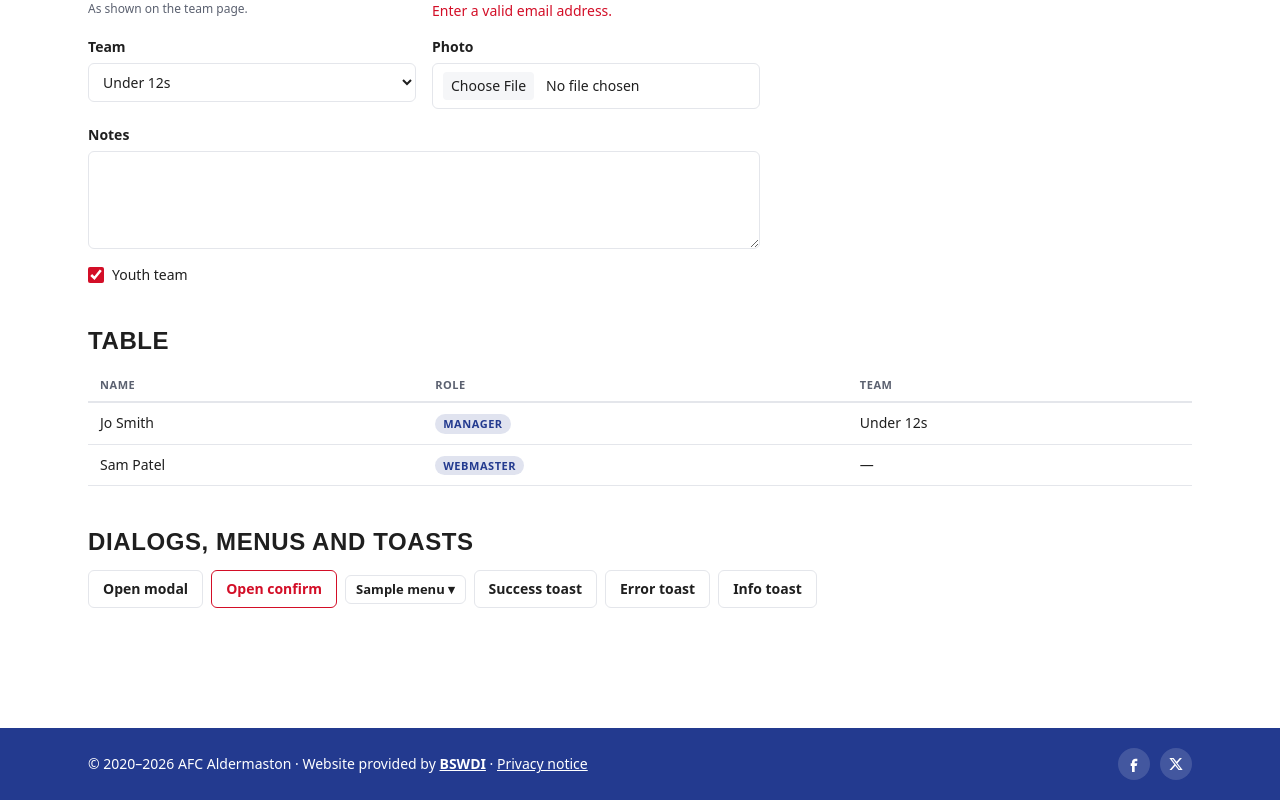
Scenario: DesignPage › opens the sample modal and confirm dialog
(page scrolled)
Click the button "Open modal". click: (146, 590)
box: x1=88 y1=570 x2=203 y2=608
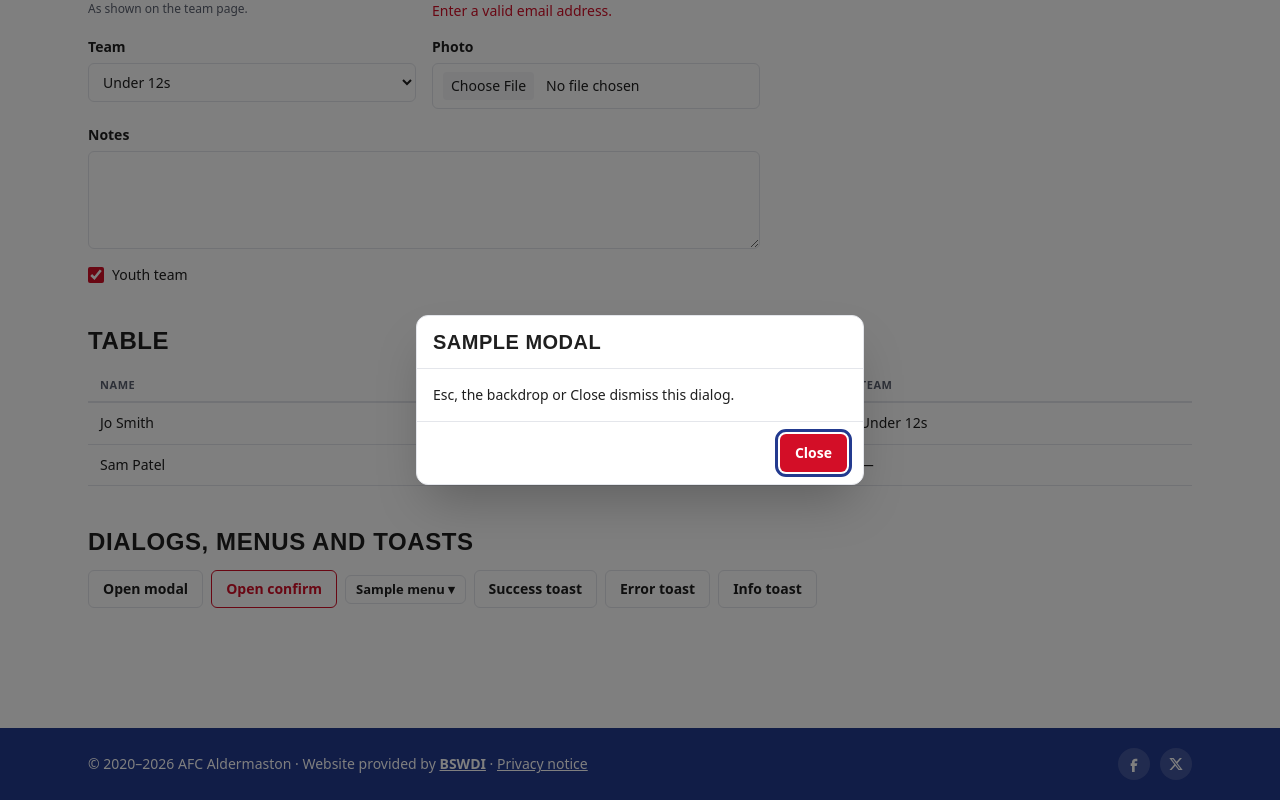
Click the button "Close". click: (813, 453)
box: x1=780 y1=434 x2=847 y2=472
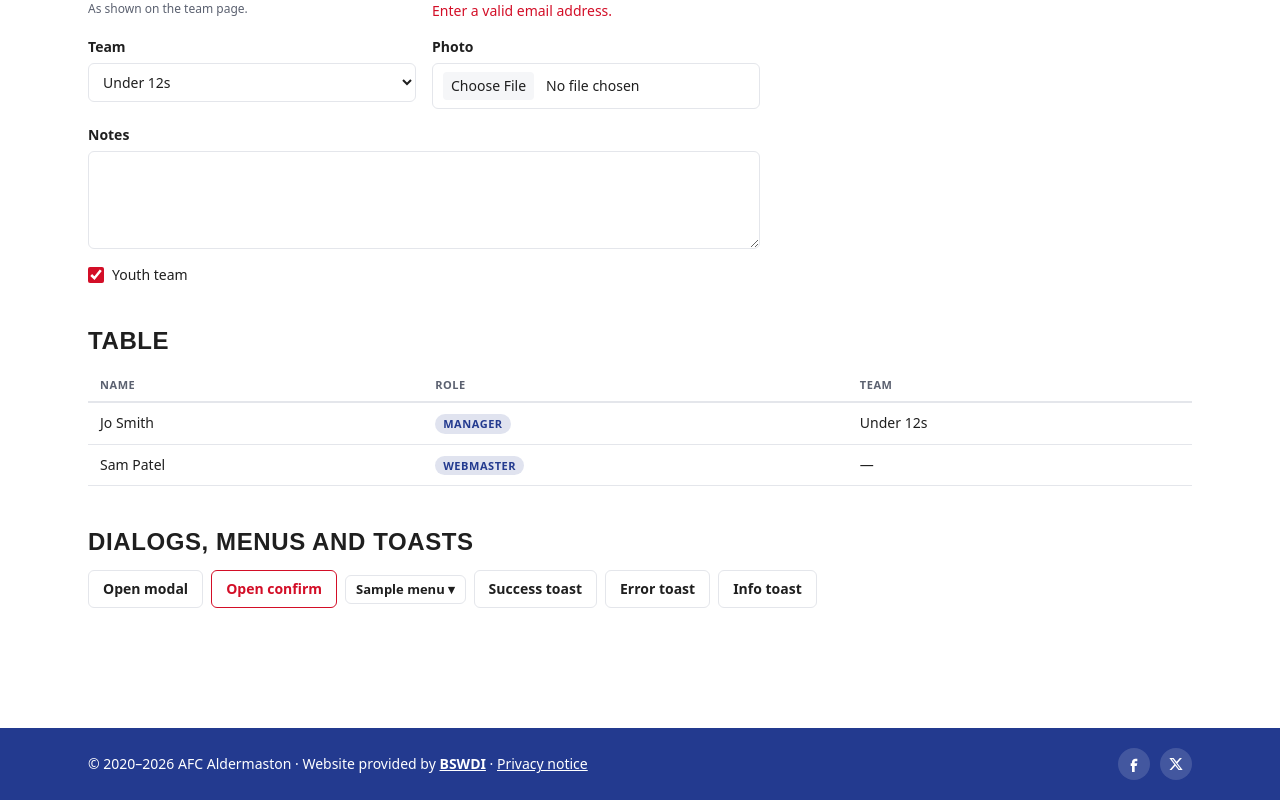
Check: the heading "Sample modal" is gone
Click the button "Open confirm". click: (274, 590)
box: x1=211 y1=570 x2=337 y2=608
(page scrolled)
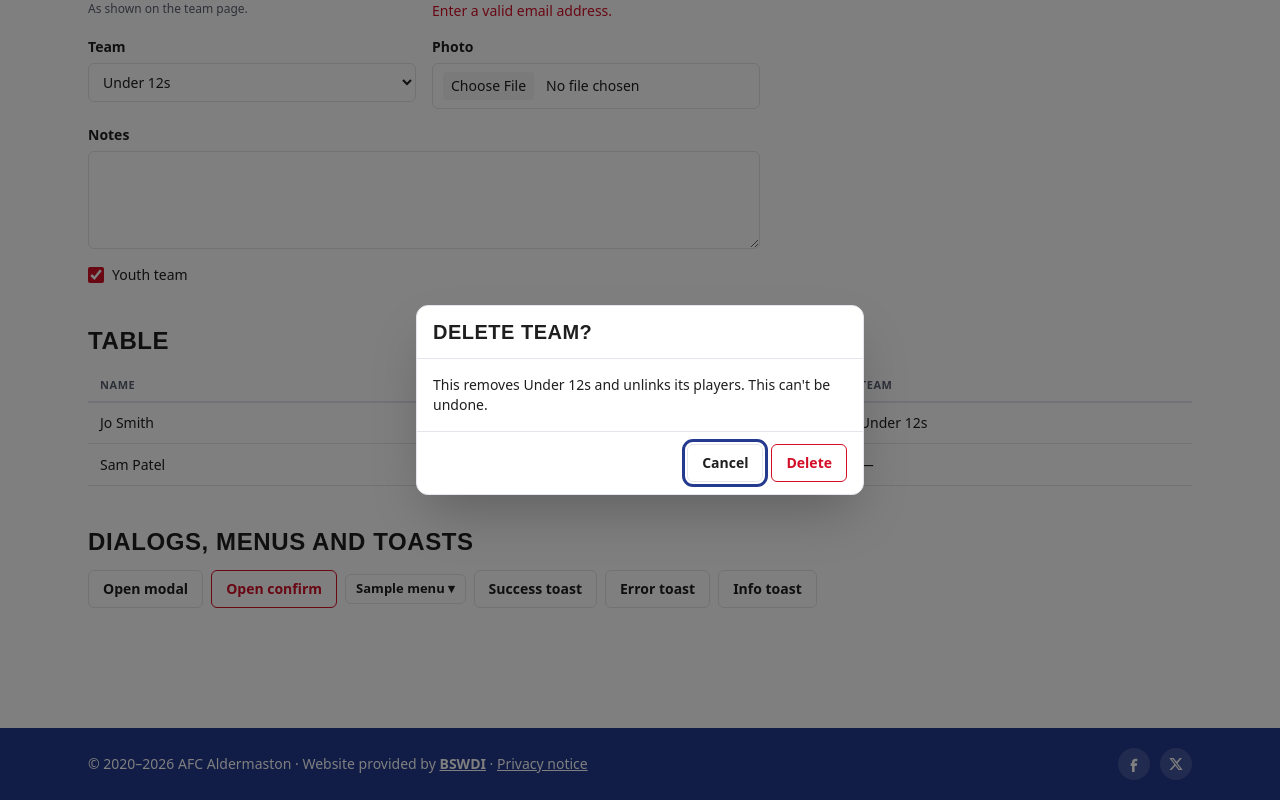
Check: the dialog "Delete team?" is shown, box x1=416 y1=305 x2=864 y2=495
